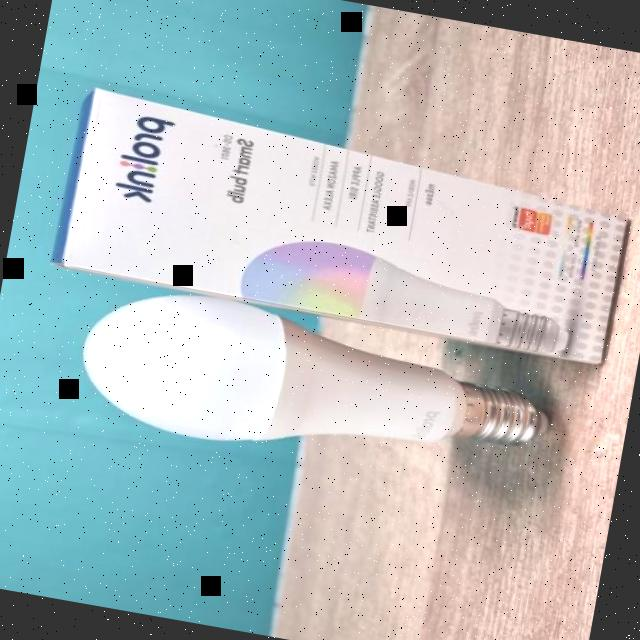light_bulb: (63, 270, 570, 502)
